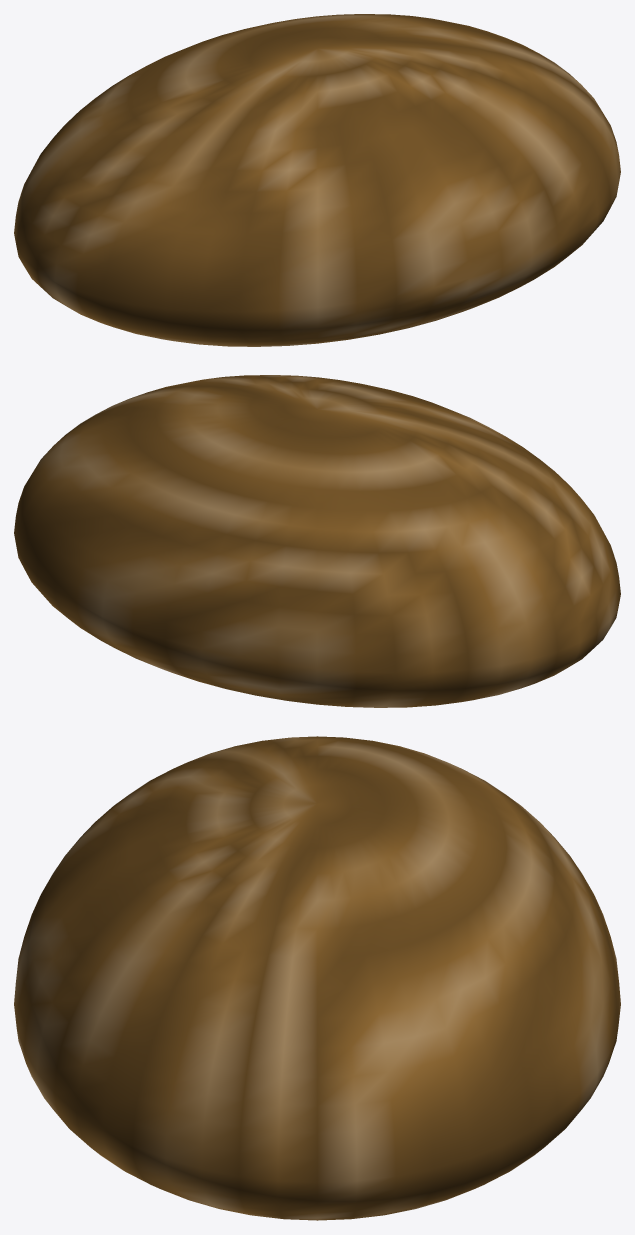
Rendered from jewelry.glb.
3 renders of one model, top to bottom at view 1: azimuth 30°, elevation 25°; view 2: azimuth 150°, elevation 25°; view 3: azimuth 270°, elevation 25°, orthographic. The views are drawn at different scales.
Parts seen in each view (by area): view 1: tigers-eye; view 2: tigers-eye; view 3: tigers-eye.
Boxes of the visible parts, x1,y1,x2,y2 form: tigers-eye: [14, 14, 620, 346]; tigers-eye: [14, 375, 620, 707]; tigers-eye: [14, 736, 620, 1220].
Size of the model in its own units: 2.36 by 1 by 1.7.
